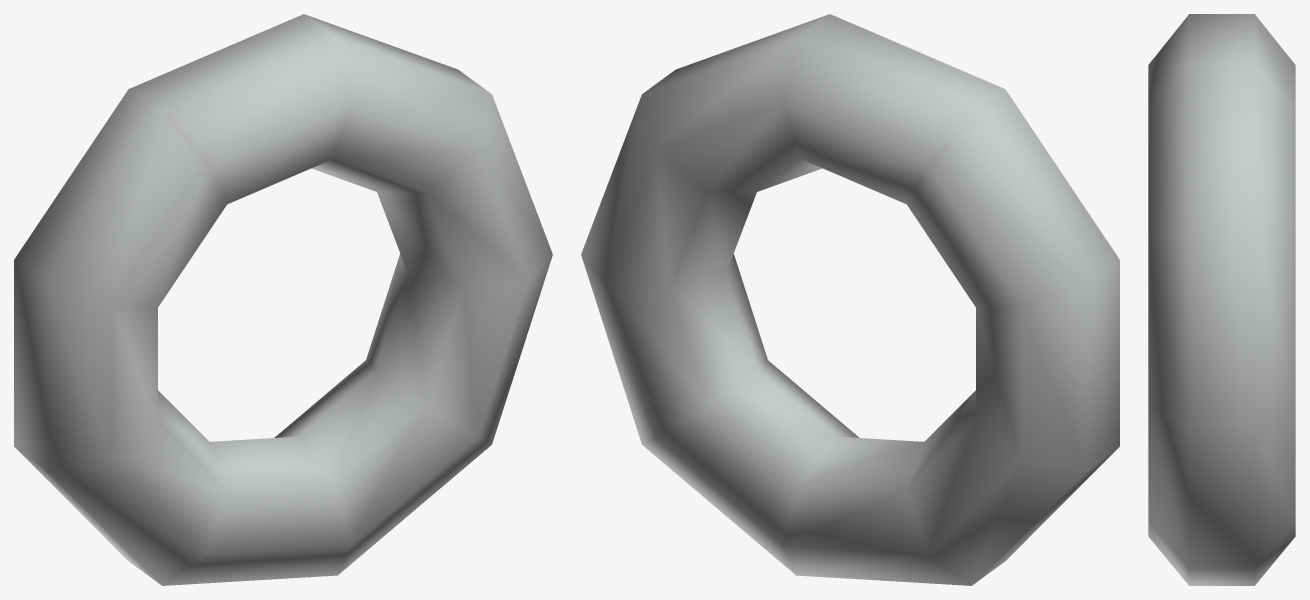
File: chain_smol.fbx
3 renders of one model, left to right at view 1: azimuth 30°, elevation 25°; view 2: azimuth 150°, elevation 25°; view 3: azimuth 270°, elevation 25°, orthographic. The views are drawn at different scales.
Visible parts, largest first — view 1: polySurface3; view 2: polySurface3; view 3: polySurface3.
Part boxes in pixels (x1,y1,x2,y2): polySurface3: (14, 14, 552, 585); polySurface3: (581, 14, 1119, 585); polySurface3: (1148, 14, 1295, 585).
Bounding box in the file's own units: 0.4199 × 0.4263 × 0.1093.
